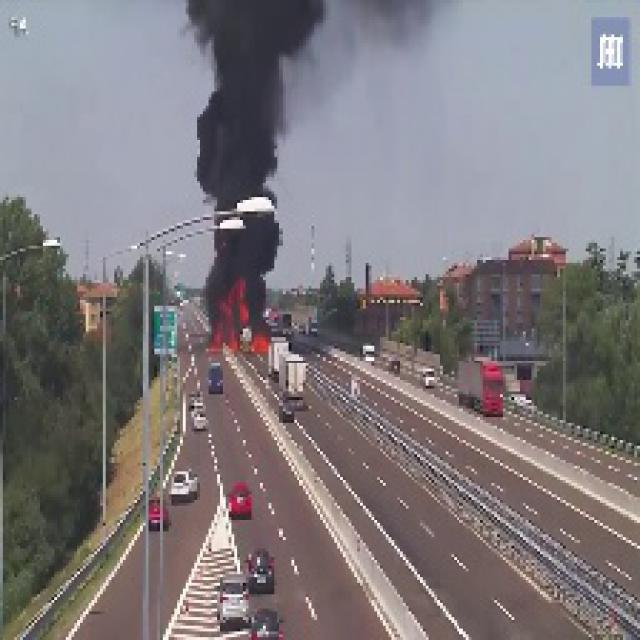fire: (203, 269, 271, 354)
